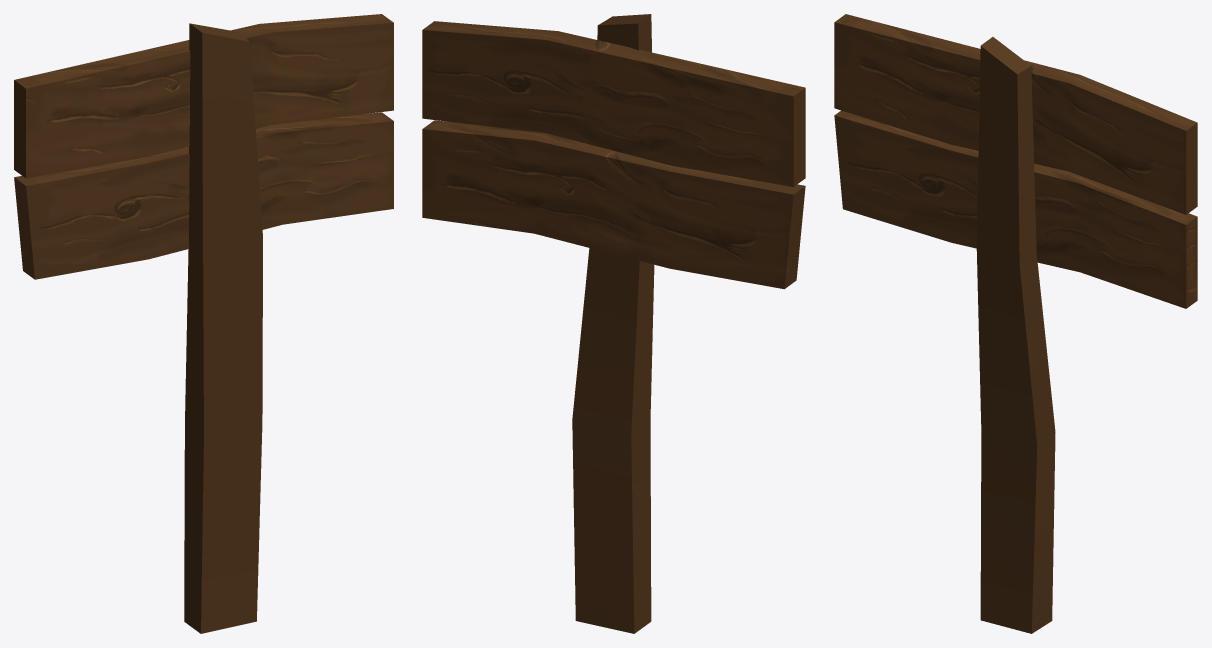
The model's file is Sign1.FBX.
The picture shows the model from 3 angles, left to right: view 1: azimuth 30°, elevation 25°; view 2: azimuth 150°, elevation 25°; view 3: azimuth 330°, elevation 25°; orthographic projection. The views are drawn at different scales.
Parts seen in each view (by area): view 1: Pole; view 2: Pole; view 3: Pole.
Part boxes in pixels (<box>): Pole: <box>14,14,393,633</box>; Pole: <box>422,14,805,633</box>; Pole: <box>834,14,1197,633</box>.
Bounding box in the file's own units: 31.5 × 49.21 × 4.99.
1 material, 1 textured.
